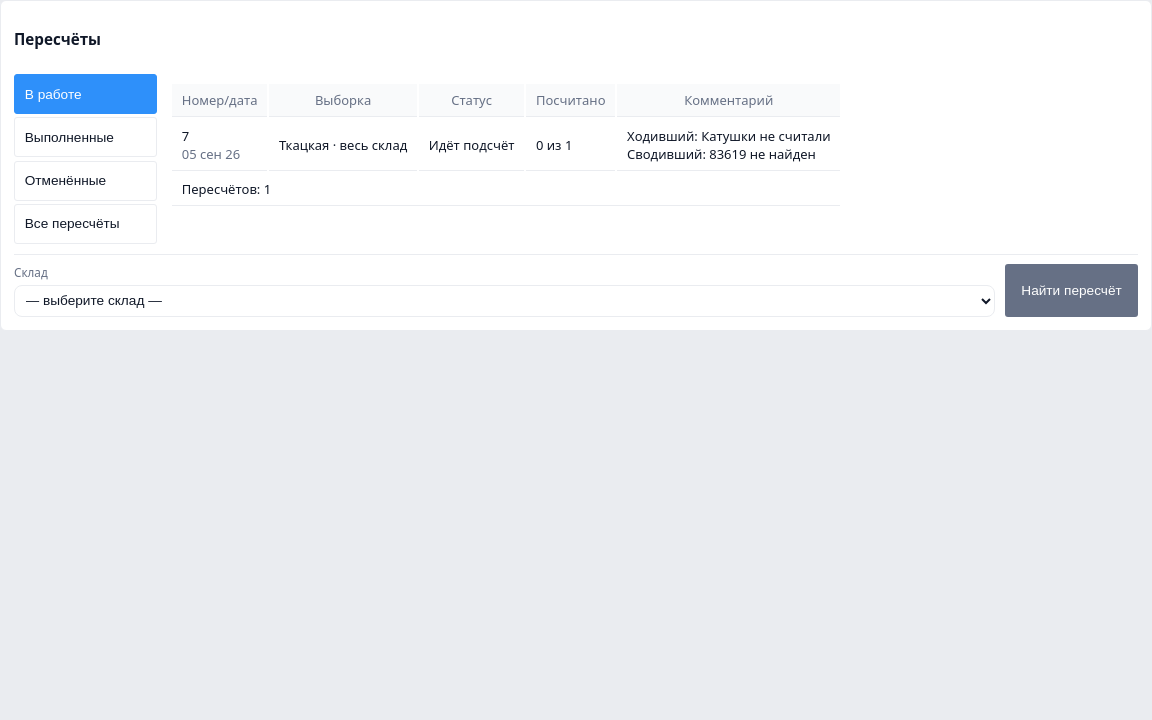
Test: журнал пересчётов › оба комментария видны отдельно и подписаны, кто написал
Expected: the text "Ходивший: Катушки не считали" is shown, [627, 127, 830, 145]
Expected: the text "Сводивший: 83619 не найден" is shown, [627, 145, 830, 163]
Click the text "Идёт подсчёт". click: (472, 145)
box: [419, 119, 524, 171]
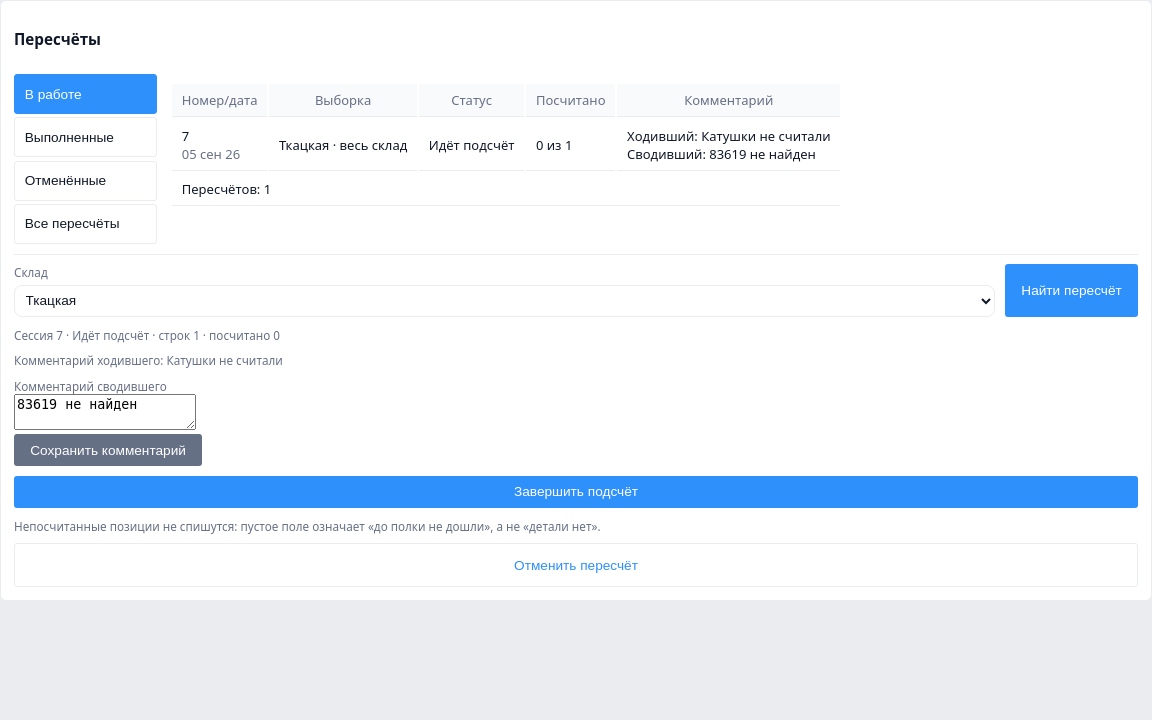
Expected: the text "Сессия 7 · Идёт подсчёт · строк 1 · посчитано 0" is shown, [14, 327, 280, 343]
Expected: the text "Комментарий ходившего: Катушки не считали" is shown, [14, 352, 283, 368]
Expected: the text box labelled "Комментарий сводившего" holds "83619 не найден"
Replace the text in the text box labelled "Комментарий сводившего" with "Проверить катушки". click: (105, 412)
box: [14, 394, 196, 430]
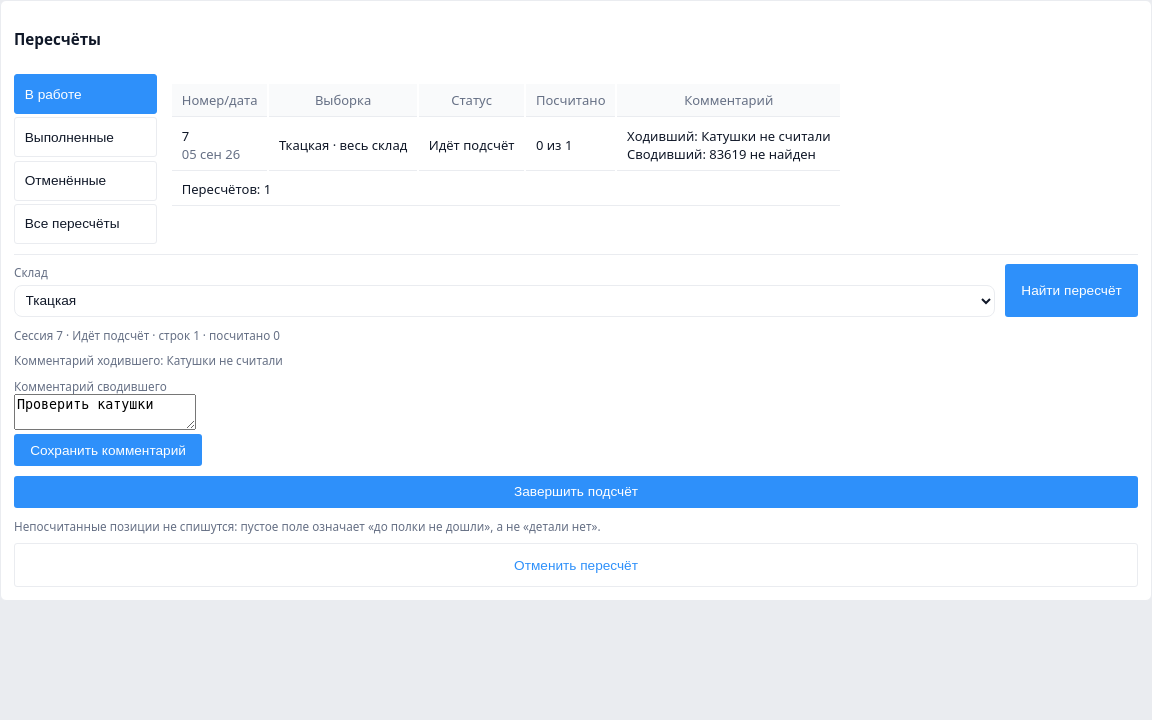
Click the button "Сохранить комментарий". click: (108, 450)
box: [14, 434, 202, 466]
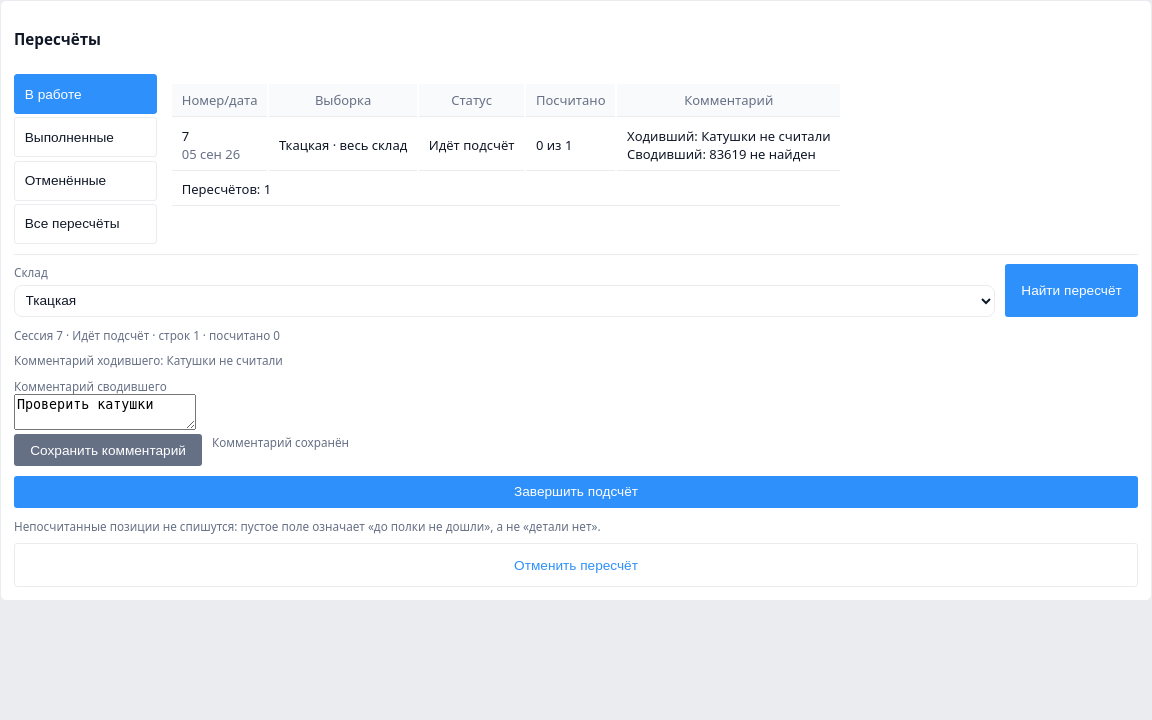
Expected: the text "Комментарий ходившего: Катушки не считали" is shown, [14, 352, 283, 368]
Expected: the text "Комментарий сохранён" is shown, [212, 434, 349, 450]
